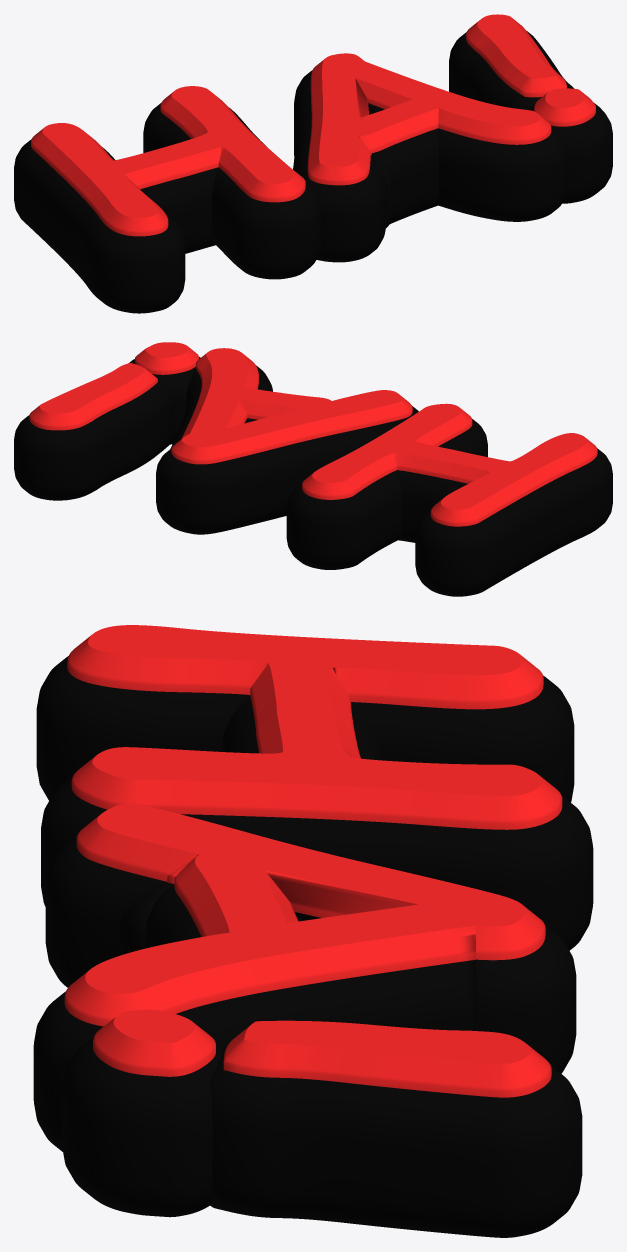
3 renders of one model, top to bottom at view 1: azimuth 30°, elevation 25°; view 2: azimuth 150°, elevation 25°; view 3: azimuth 270°, elevation 25°, orthographic. The views are drawn at different scales.
Visible parts, largest first — view 1: Text, Text.002; view 2: Text, Text.002; view 3: Text, Text.002.
Part boxes in pixels (x1=…): Text: x1=14, y1=30, x2=612, y2=313; Text.002: x1=31, y1=14, x2=595, y2=236; Text: x1=14, y1=357, x2=612, y2=596; Text.002: x1=29, y1=342, x2=597, y2=526; Text: x1=33, y1=656, x2=593, y2=1237; Text.002: x1=64, y1=625, x2=562, y2=1097.
Bounding box in the file's own units: 111 × 18.22 × 54.44.
